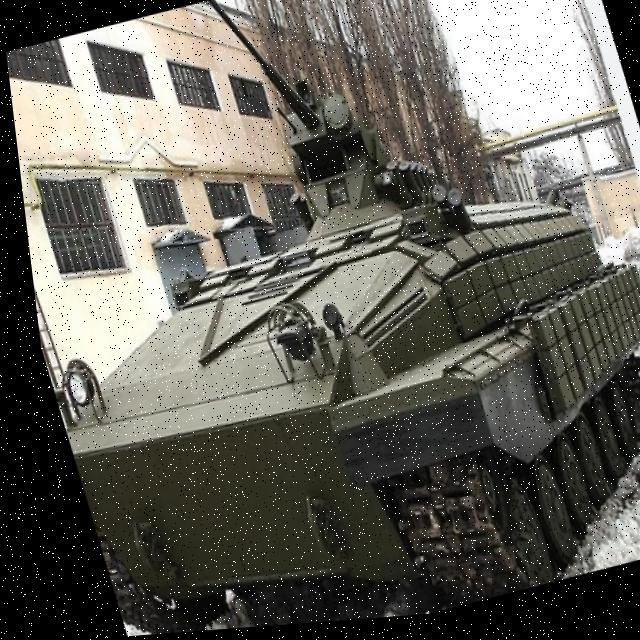MIL_APC: (11, 79, 640, 640)
